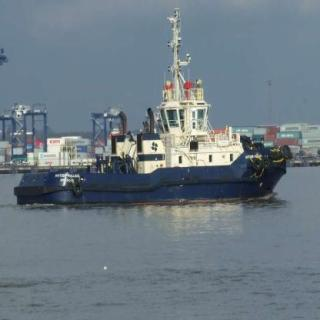Tug Boat: (23, 21, 291, 200)
